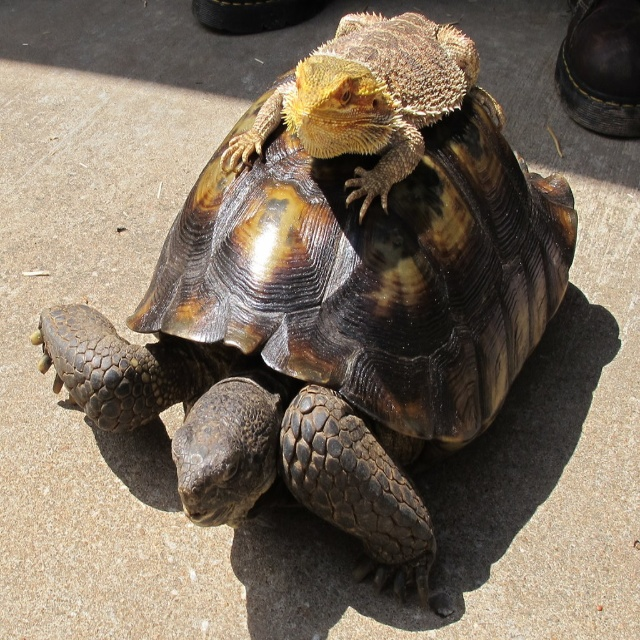Tortoise: (30, 64, 578, 608)
